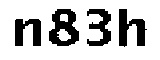3: (81, 3, 113, 52)
8: (46, 5, 81, 51)
h: (116, 6, 150, 53)
n: (9, 16, 44, 52)
